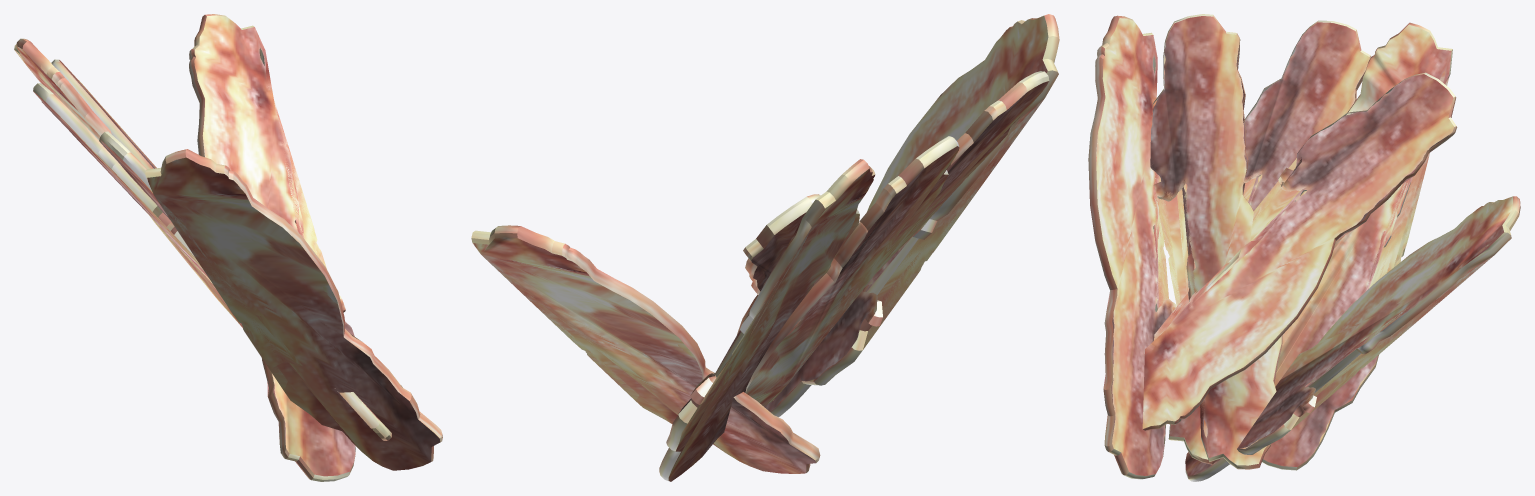
The model's file is baconToppings.fbx.
The picture shows the model from 3 angles, left to right: view 1: azimuth 30°, elevation 25°; view 2: azimuth 150°, elevation 25°; view 3: azimuth 270°, elevation 25°; orthographic projection. The views are drawn at different scales.
Visible parts, largest first — view 1: Cube.003; view 2: Cube.003; view 3: Cube.003.
Boxes of the visible parts, bbox=[...] form: Cube.003: bbox=[14, 14, 442, 481]; Cube.003: bbox=[471, 14, 1059, 481]; Cube.003: bbox=[1088, 14, 1520, 481].
Size of the model in its own units: 24.36 by 30.07 by 31.35.
